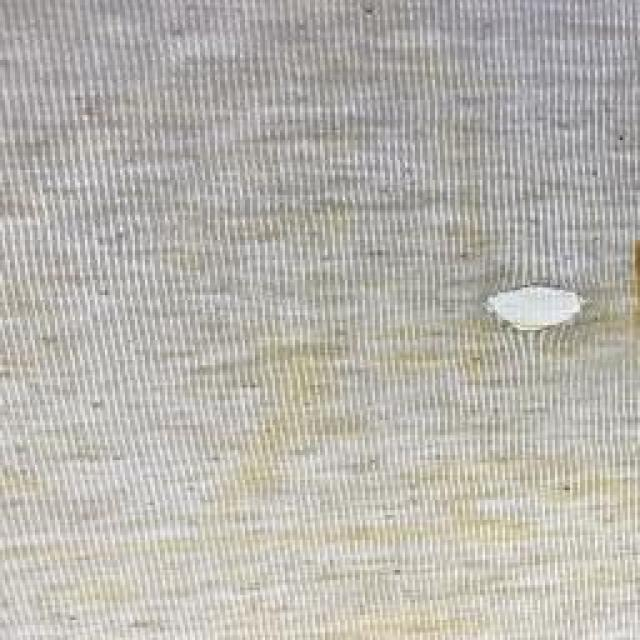seam: (461, 248, 604, 390)
